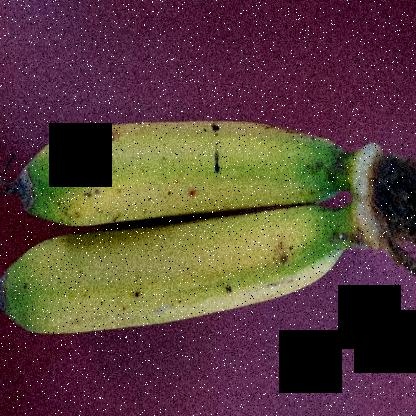freshripe: (6, 194, 340, 364)
ripe: (21, 102, 354, 241)
